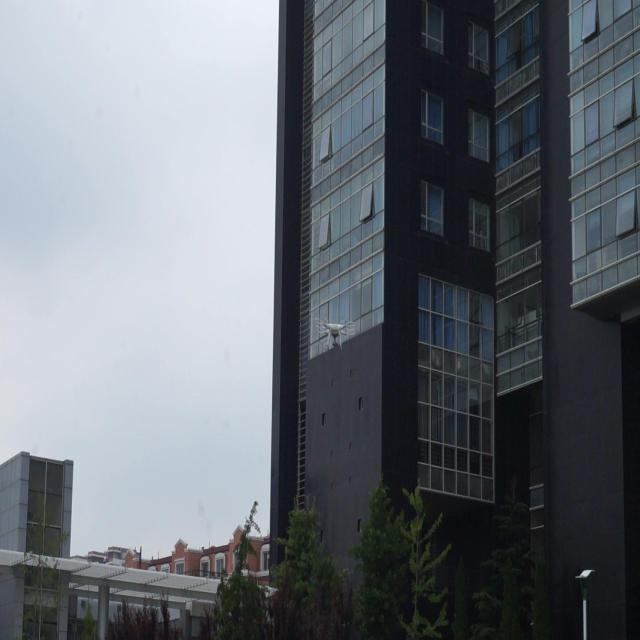drone: (312, 313, 358, 355)
